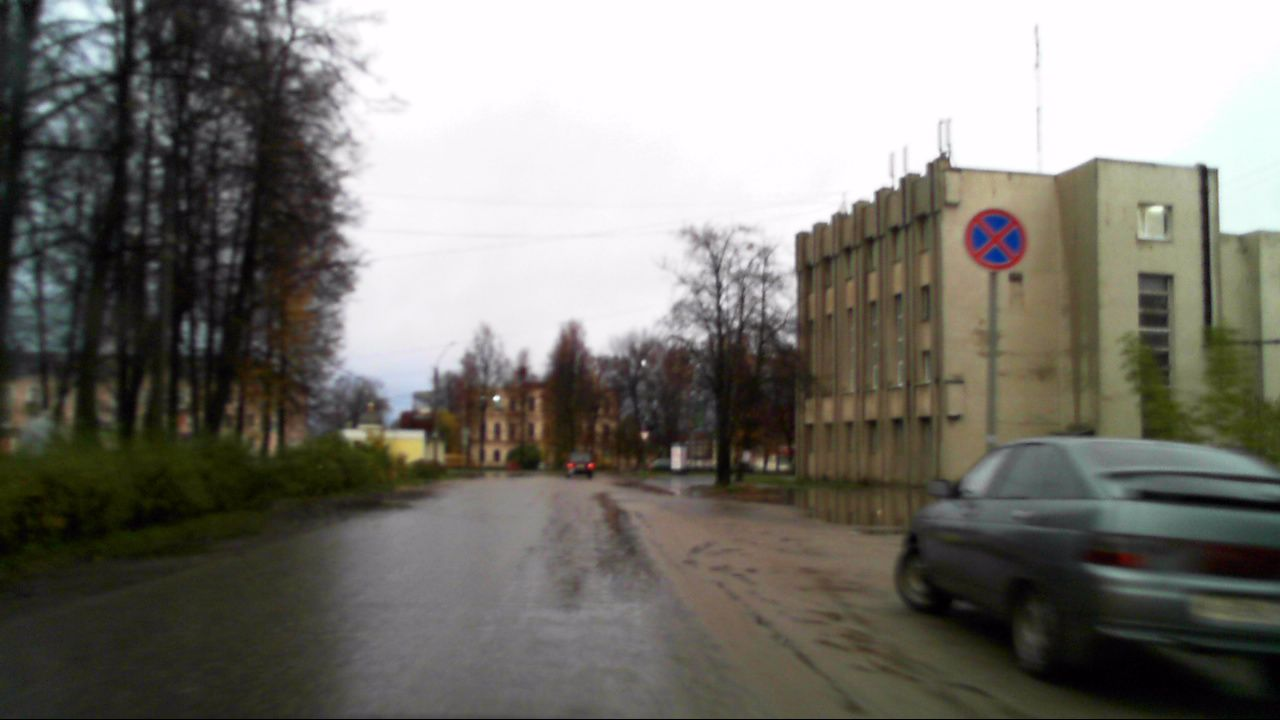No Parking: (964, 208, 1027, 270)
